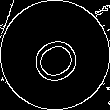O_NE: (22, 24, 88, 86)
